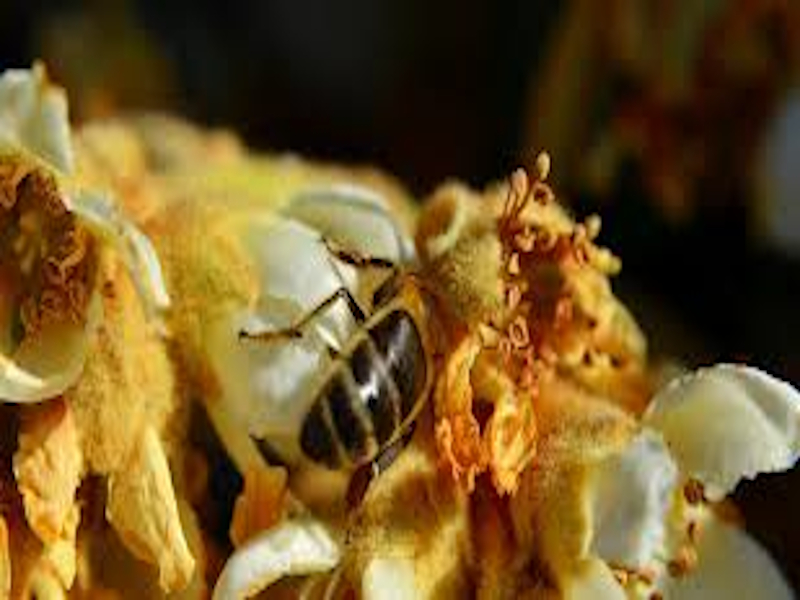abeja: (215, 182, 554, 543)
